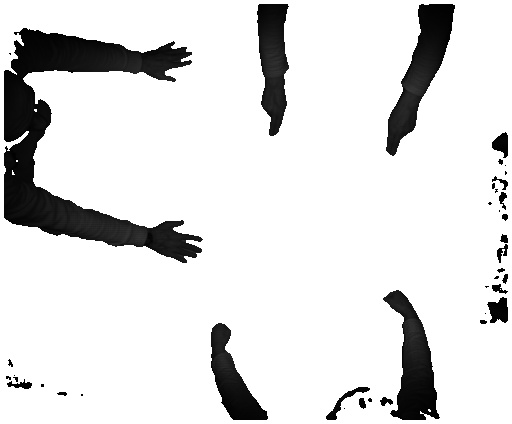fist: (376, 288, 419, 315), (208, 320, 238, 353)
hand: (152, 216, 207, 263), (384, 100, 423, 159), (147, 40, 191, 87), (256, 87, 287, 135)
